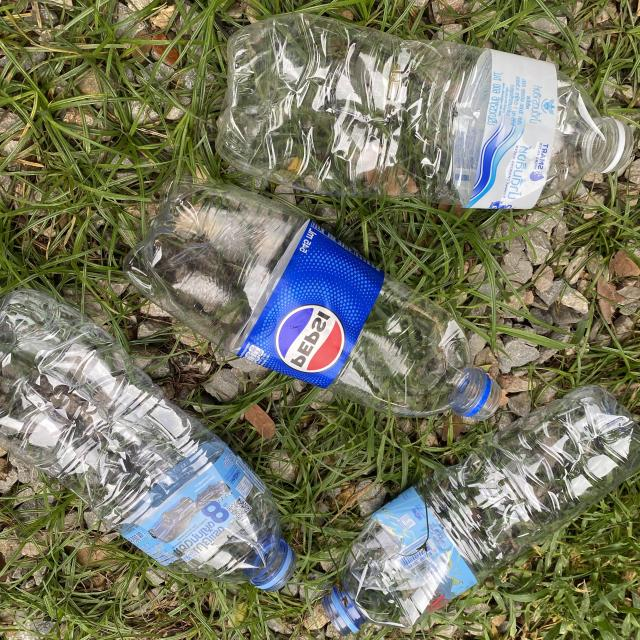plastik: (124, 178, 502, 419), (0, 290, 294, 591), (216, 13, 634, 208), (323, 386, 640, 635)
